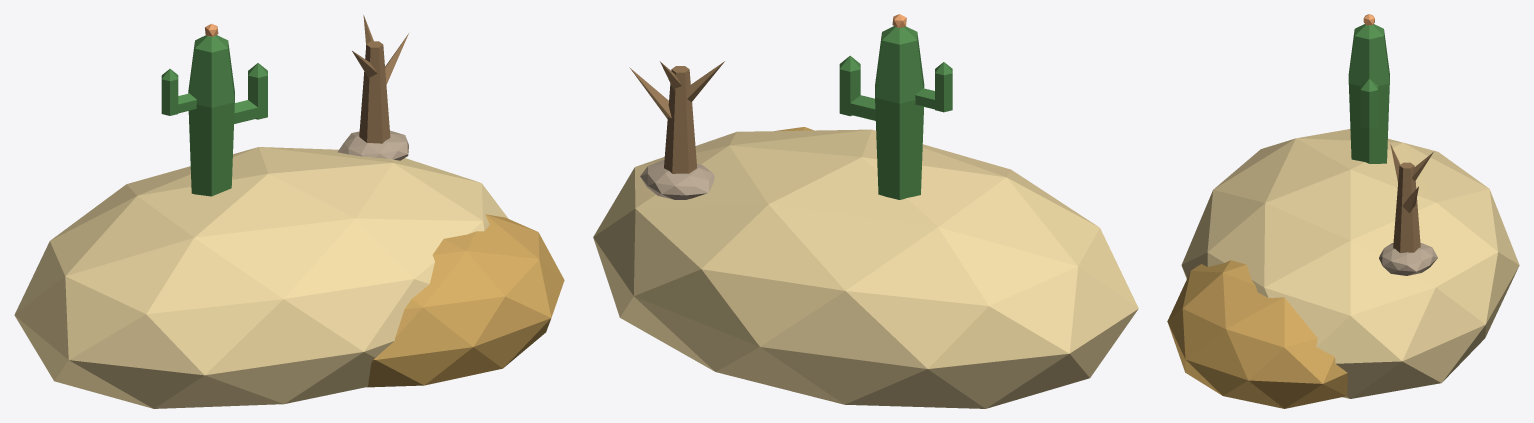
The model's file is dune.glb.
The picture shows the model from 3 angles, left to right: view 1: azimuth 30°, elevation 25°; view 2: azimuth 150°, elevation 25°; view 3: azimuth 270°, elevation 25°; orthographic projection. The views are drawn at different scales.
Visible parts, largest first — view 1: sand-dune; view 2: sand-dune; view 3: sand-dune.
Part boxes in pixels (x1,y1,x2,y2): sand-dune: (14,15,564,408); sand-dune: (593,14,1138,408); sand-dune: (1167,14,1519,408).
Bounding box in the file's own units: 2.58 × 1.63 × 1.87.
